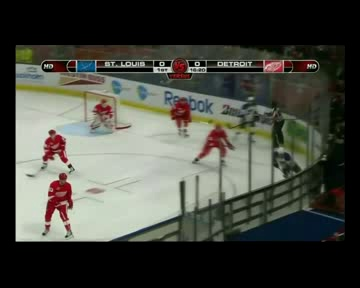normal: (38, 171, 85, 239), (37, 123, 77, 176), (81, 95, 120, 134), (167, 93, 198, 139)
